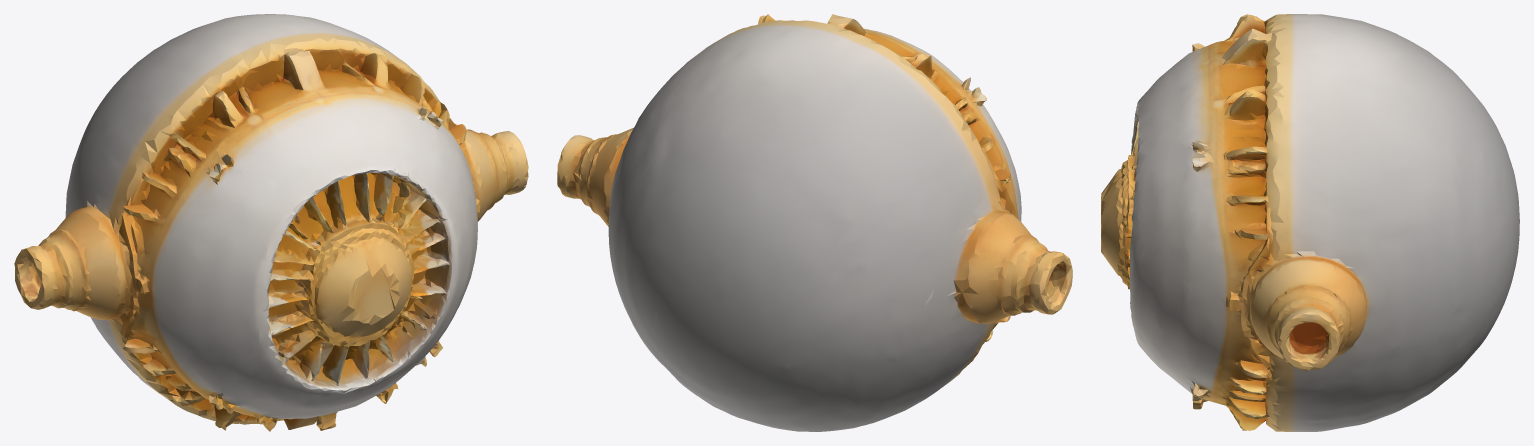
File: valkyrie_engine_aux.glb
3 views of the same model, side by side, from view 1: azimuth 30°, elevation 25°; view 2: azimuth 150°, elevation 25°; view 3: azimuth 270°, elevation 25° (orthographic).
Visible parts, largest first — view 1: valkyrie_engine_aux; view 2: valkyrie_engine_aux; view 3: valkyrie_engine_aux.
Part boxes in pixels (<box>): valkyrie_engine_aux: <box>14,14,528,431</box>; valkyrie_engine_aux: <box>557,14,1072,431</box>; valkyrie_engine_aux: <box>1101,14,1519,431</box>.
Bounding box in the file's own units: 1.89 × 1.4 × 1.4.
1 material, 1 textured.
